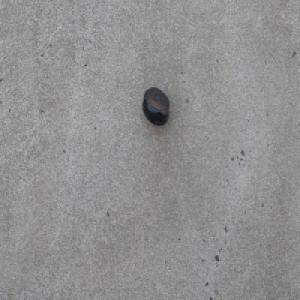FuelCap: (141, 87, 169, 128)
